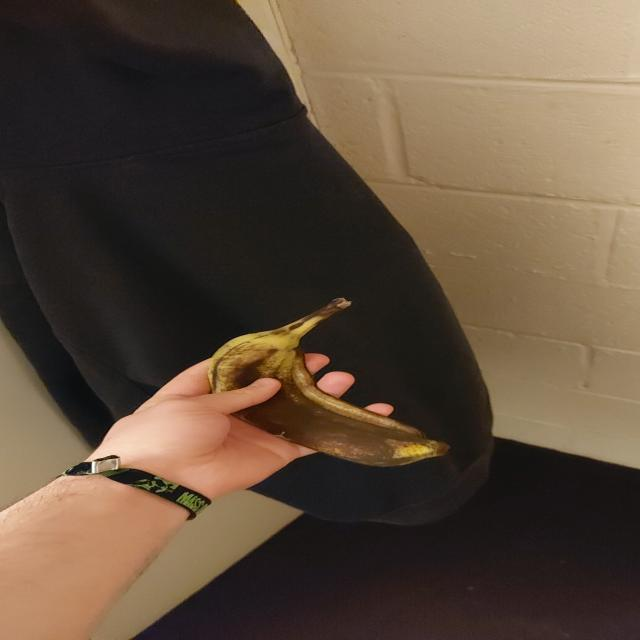banana-peel: (206, 295, 451, 468)
